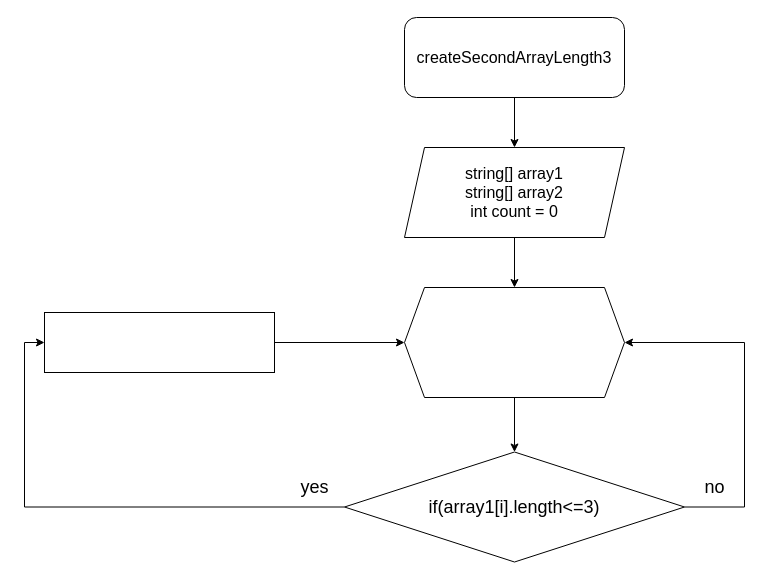
This 770x580 diagram has some shape labels left out. The shapes that lost their labels are listed below. From the top down, each one's centre as x and y in pixels, then its label:
At (x=159, y=342): "array2[count] = array1[i]; count++".
At (x=514, y=342): "for(int i = 0; i < array1.length; i++".
